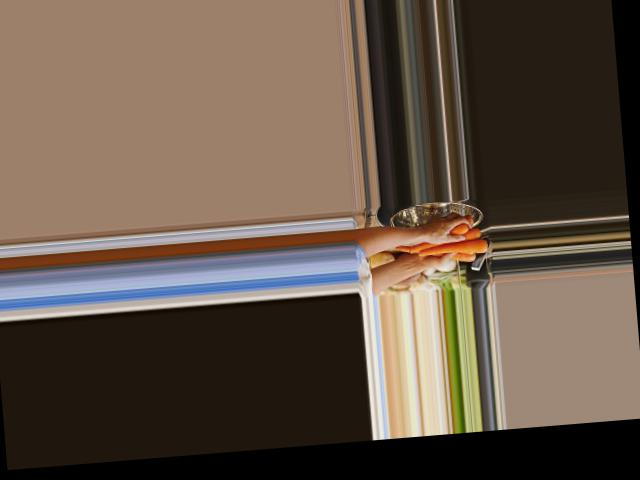carrot: (405, 230, 483, 256)
